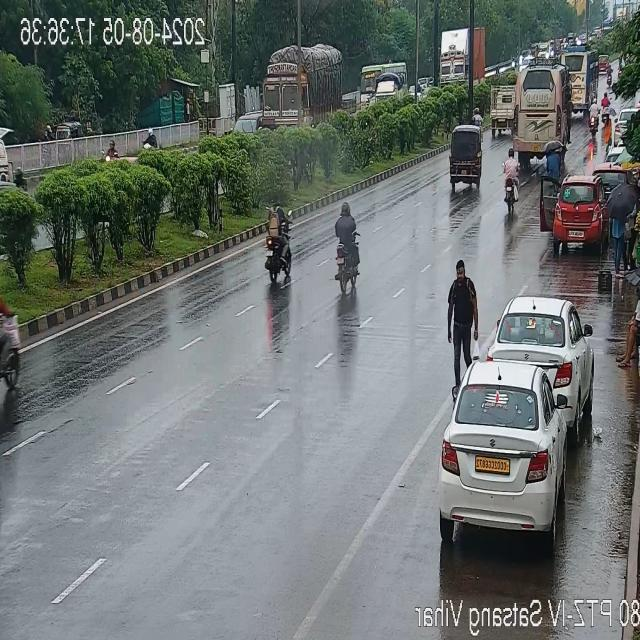2-wheelers: (254, 208, 300, 290), (329, 204, 371, 290), (0, 274, 15, 409), (500, 148, 522, 206), (585, 94, 601, 136), (136, 130, 159, 158)
auto: (442, 128, 482, 190), (538, 148, 564, 218), (362, 68, 408, 104)
bus: (500, 64, 570, 158)
car: (434, 374, 562, 540), (485, 296, 590, 401), (553, 184, 606, 246)
pedestrian: (448, 258, 479, 370), (616, 286, 640, 364)
truck: (250, 41, 340, 135), (438, 24, 486, 95), (558, 48, 596, 110), (105, 136, 121, 168)
